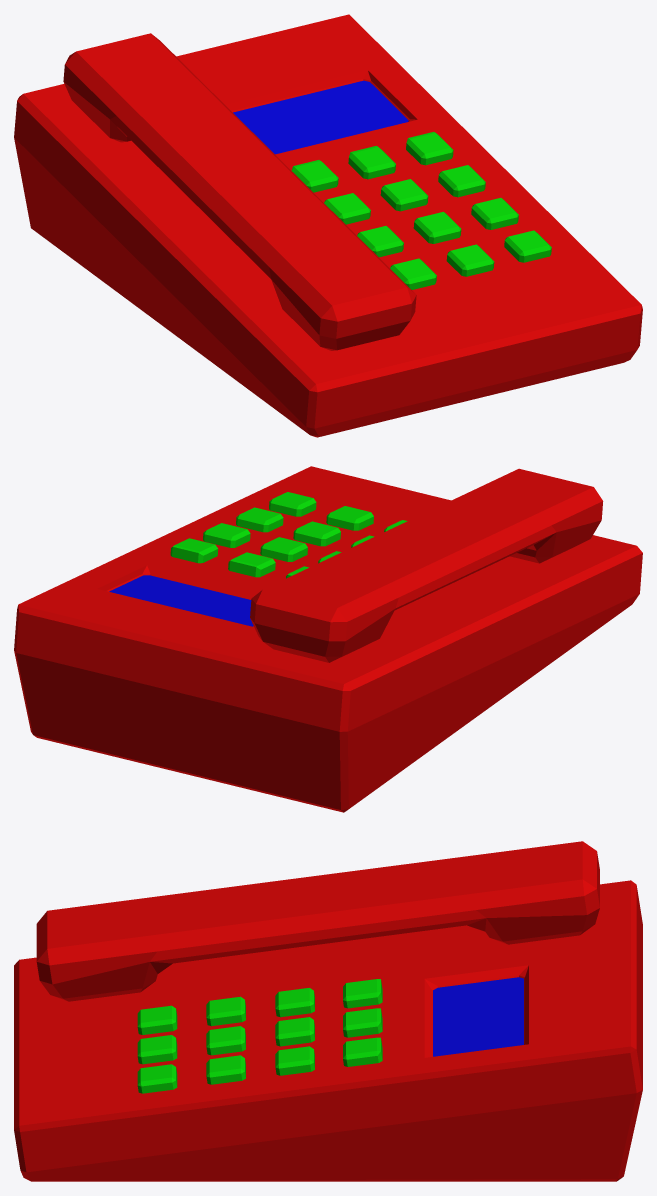
Rendered from 6phone.fbx.
3 renders of one model, top to bottom at view 1: azimuth 30°, elevation 25°; view 2: azimuth 150°, elevation 25°; view 3: azimuth 270°, elevation 25°, orthographic. The views are drawn at different scales.
Parts seen in each view (by area): view 1: Cube.001; view 2: Cube.001; view 3: Cube.001.
Boxes of the visible parts, x1,y1,x2,y2 form: Cube.001: [14, 14, 642, 437]; Cube.001: [14, 466, 642, 812]; Cube.001: [14, 841, 642, 1181].
Bounding box in the file's own units: 32 × 17.16 × 50.
